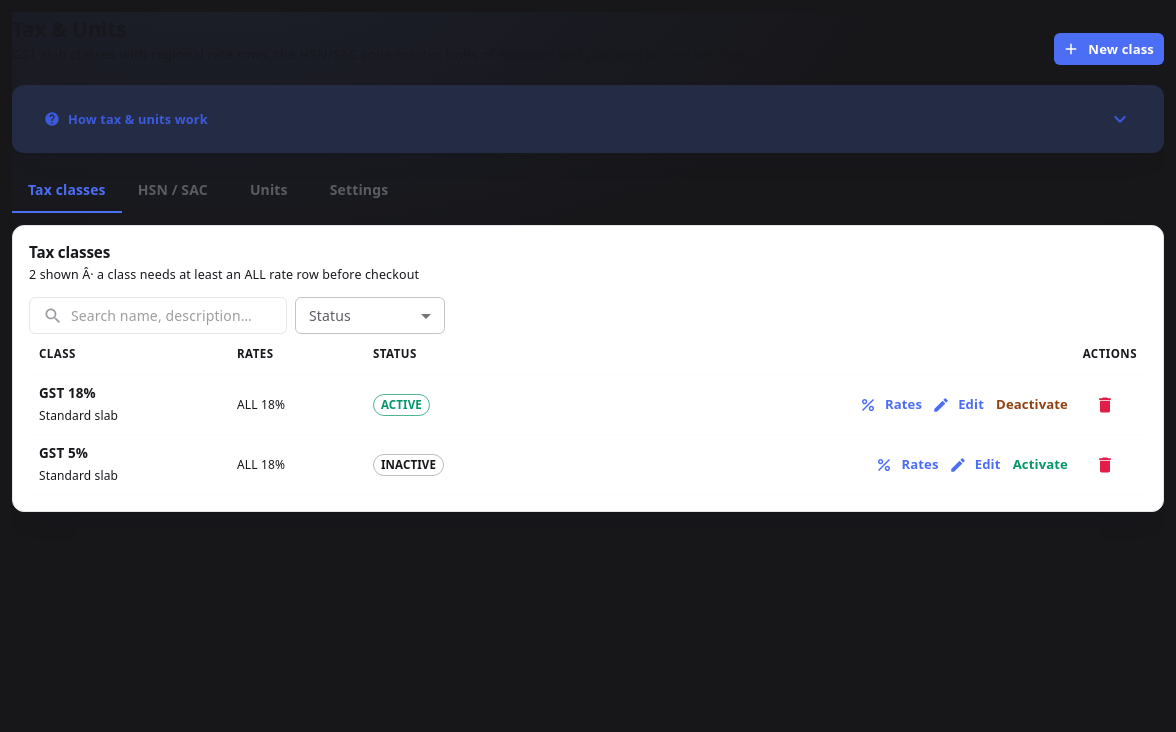
Test: TaxAdminView (admin) › switches to the HSN / SAC tab
The image size is (1176, 732).
Click the tab "HSN / SAC" at {"x": 173, "y": 190}, box [122,166,224,214]
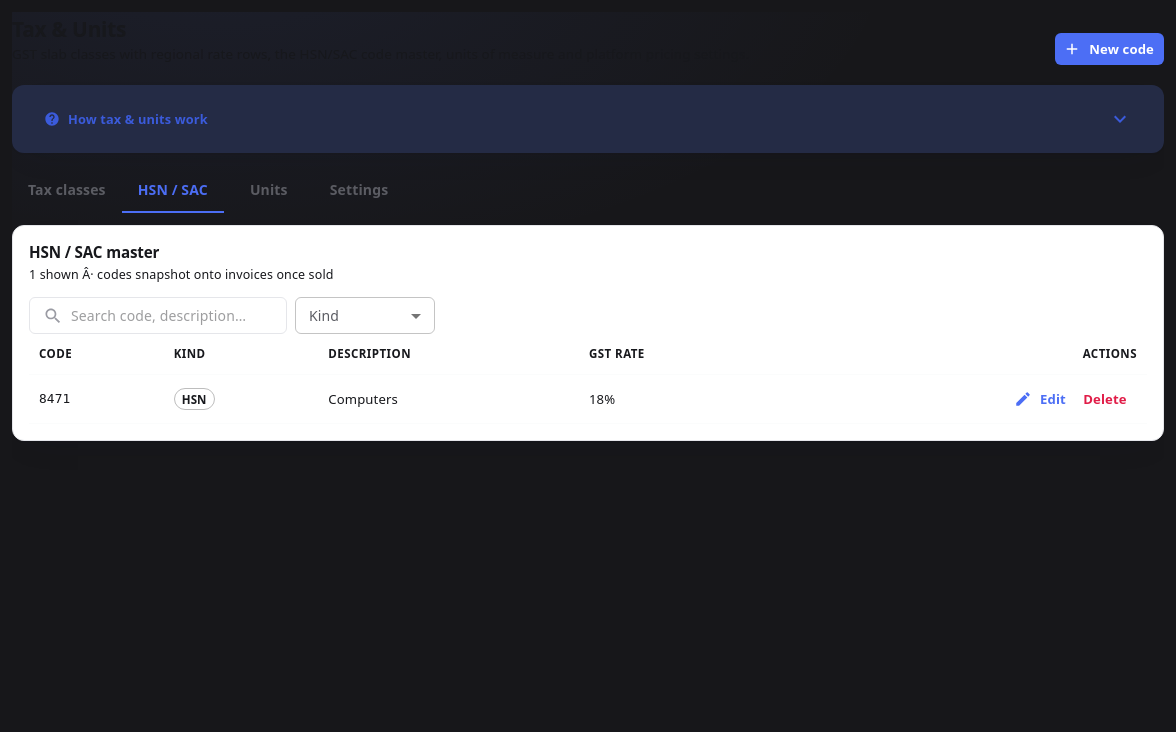
expect the heading "HSN / SAC master" is shown: met, box [29,242,159,262]
expect the button "New code" is shown: met, box [1055,34,1164,66]
expect the text "8471" is shown: met, box [29,375,164,424]
